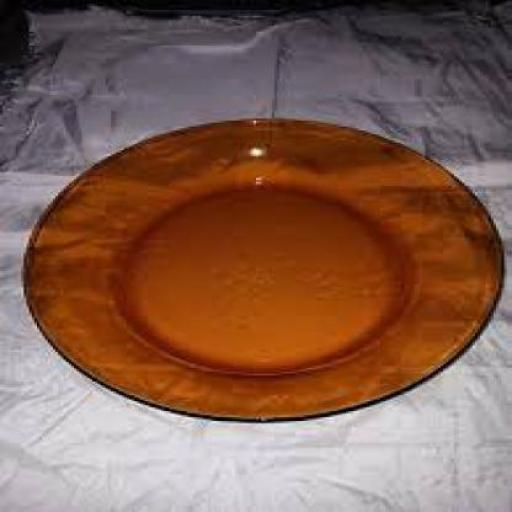glass: (18, 116, 501, 422)
